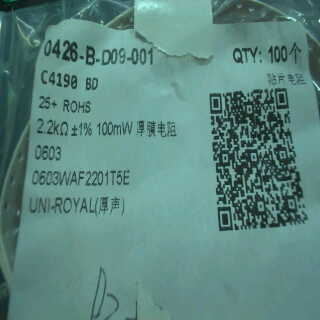2.2kR: (32, 114, 71, 141)
